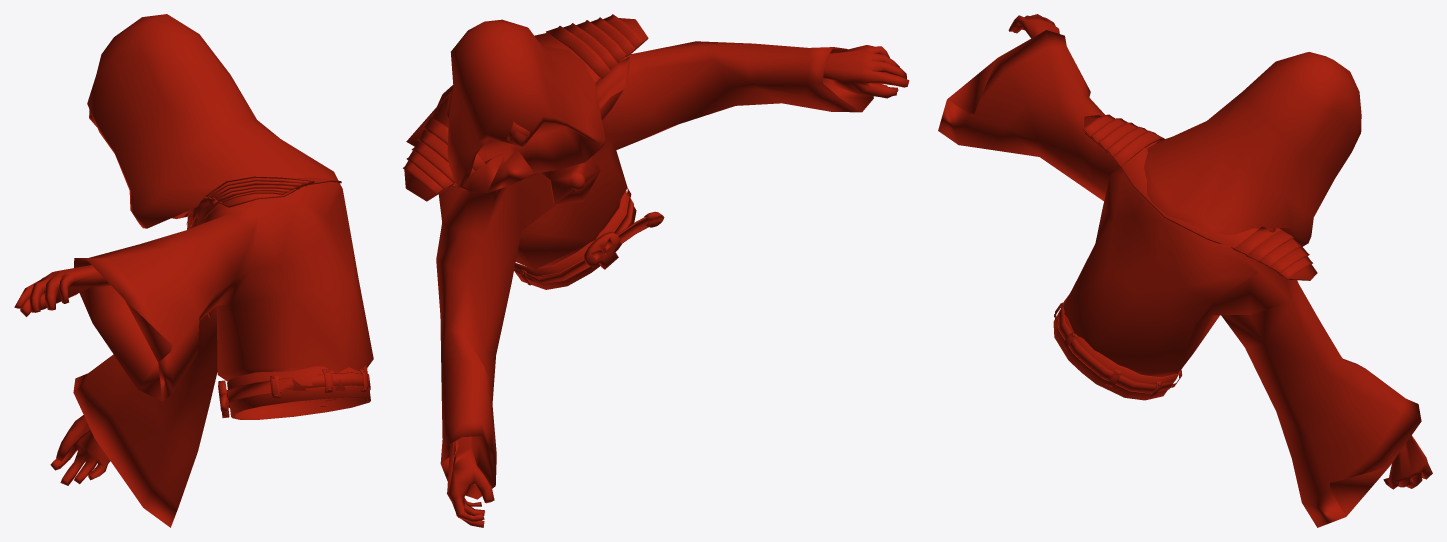
Rendered from top_000076.obj.
3 renders of one model, left to right at view 1: azimuth 30°, elevation 25°; view 2: azimuth 150°, elevation 25°; view 3: azimuth 270°, elevation 25°, orthographic. The views are drawn at different scales.
Visible parts, largest first — view 1: LowPoly_Warlock.000_Plane.005; view 2: LowPoly_Warlock.000_Plane.005; view 3: LowPoly_Warlock.000_Plane.005.
Boxes of the visible parts, <box> form: LowPoly_Warlock.000_Plane.005: <box>14,14,373,527</box>; LowPoly_Warlock.000_Plane.005: <box>403,14,909,527</box>; LowPoly_Warlock.000_Plane.005: <box>938,14,1432,527</box>.
Size of the model in its own units: 1.23 by 1.44 by 1.39.
